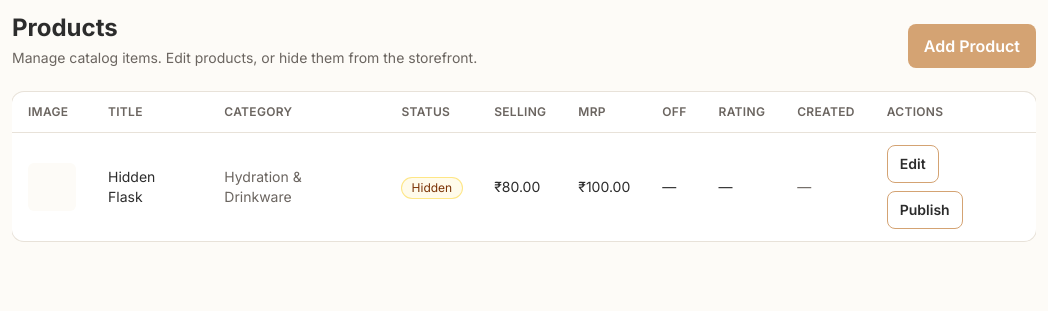
Test: AdminProductsPage › publishes a hidden product in one click
The width and height of the screenshot is (1048, 311).
Check: the text "Hidden Flask" is shown, box [92,132,208,241]
Check: the text "Hidden" is shown, box [402,178,462,198]
Click the button "Publish".
click(925, 210)  # box [887,191,963,229]
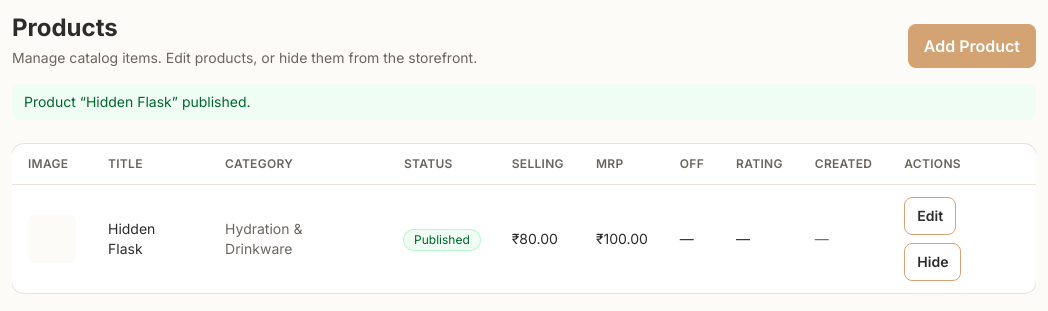
Check: the text "Product “Hidden Flask” published." is shown, box [12,84,1036,120]
Check: the text "Published" is shown, box [404,230,480,250]
Check: the button "Hide" is shown, box [904,243,961,281]
